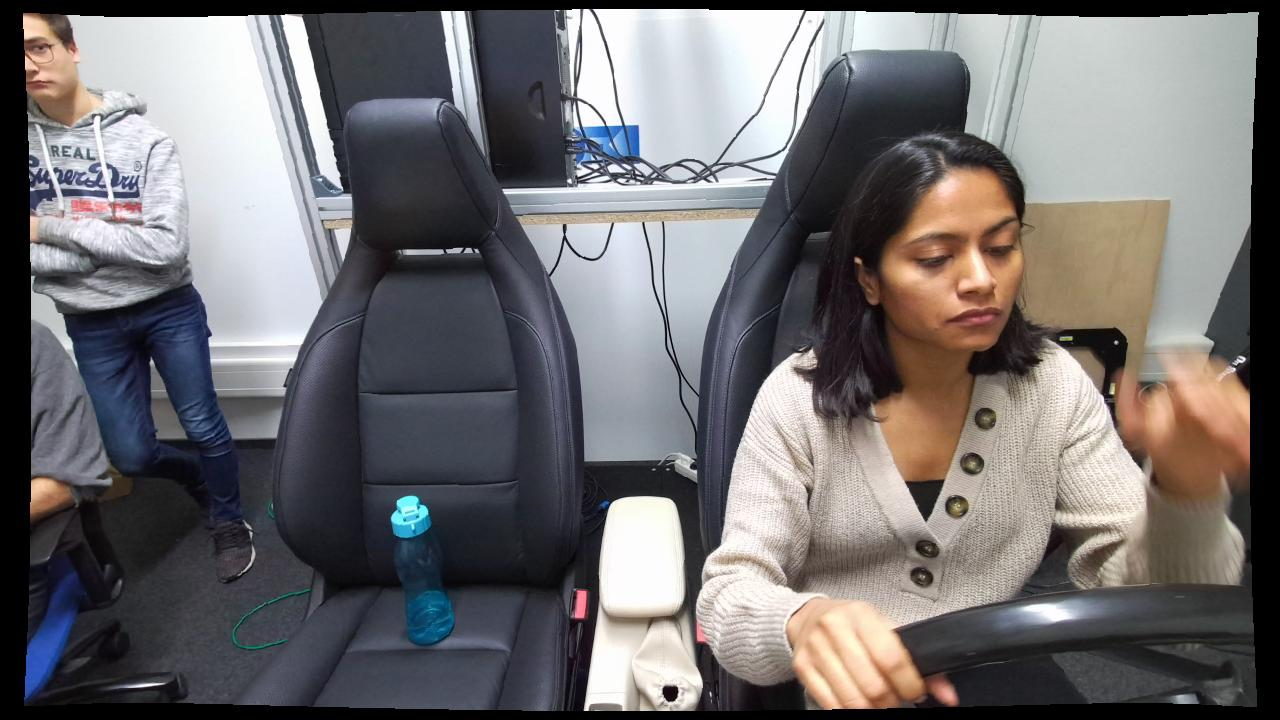Distracted: (692, 122, 1252, 713)
